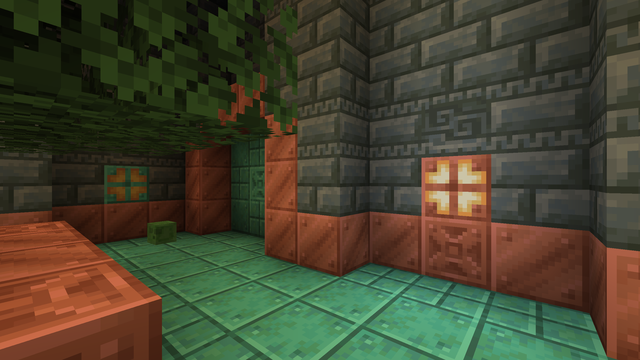slimes: (147, 219, 176, 244)
